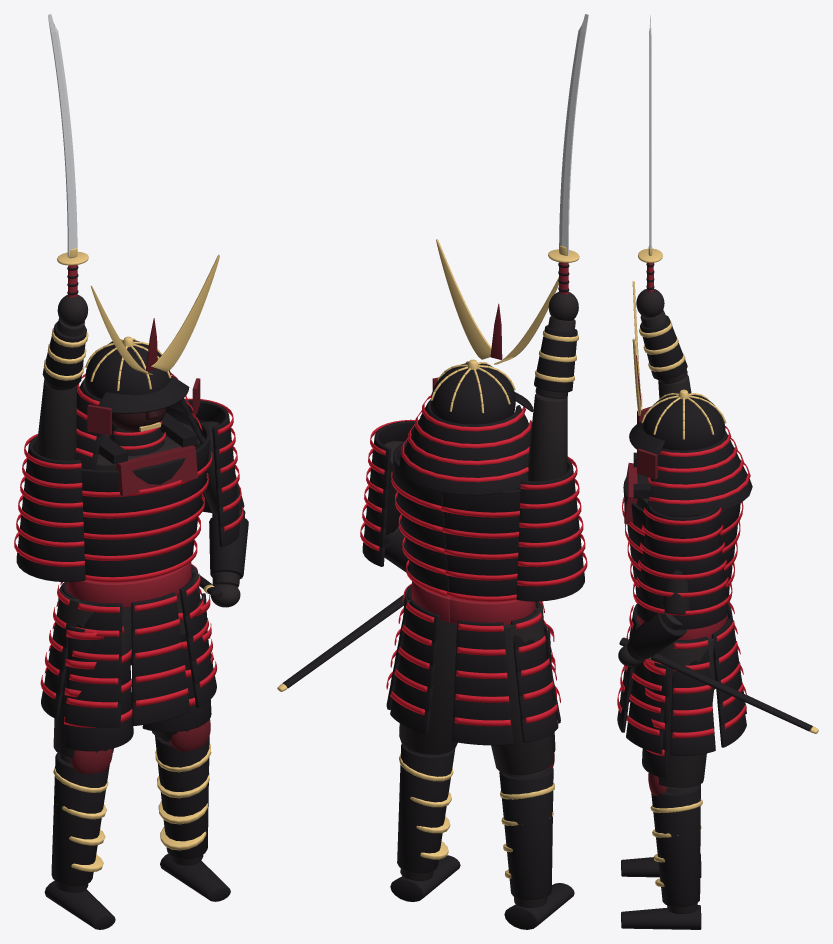
File: samurai.glb
3 renders of one model, left to right at view 1: azimuth 30°, elevation 25°; view 2: azimuth 150°, elevation 25°; view 3: azimuth 270°, elevation 25°, orthographic. The views are drawn at different scales.
Visible parts, largest first — view 1: Body, ArmMesh; view 2: Body, ArmMesh; view 3: Body, ArmMesh.
Part boxes in pixels (x1=…): Body: x1=14, y1=254, x2=248, y2=929; ArmMesh: x1=36, y1=14, x2=88, y2=460; Body: x1=277, y1=239, x2=587, y2=929; ArmMesh: x1=527, y1=14, x2=588, y2=481; Body: x1=617, y1=281, x2=818, y2=929; ArmMesh: x1=636, y1=15, x2=691, y2=398.
Size of the model in its own units: 0.8127 by 3.03 by 0.6566.
